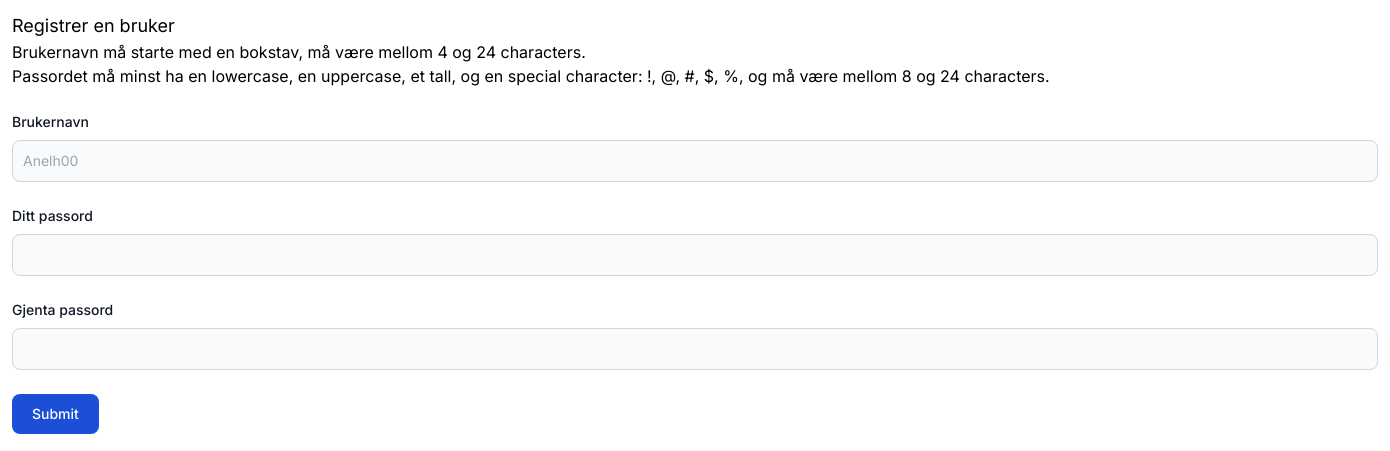
Test case: Testing API › should recieve data to the post request
In the field with test id "brukernavn": (695, 161) [12,140,1378,182], type "Anelh2000"
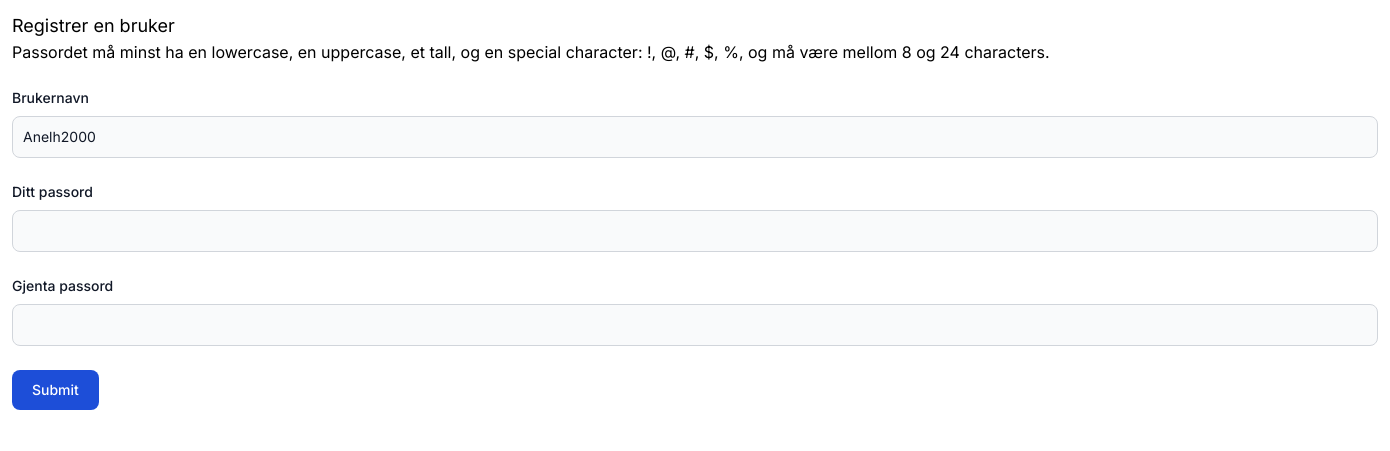
In the password field with test id "passord": (695, 231) [12,210,1378,252], type "Test123!"
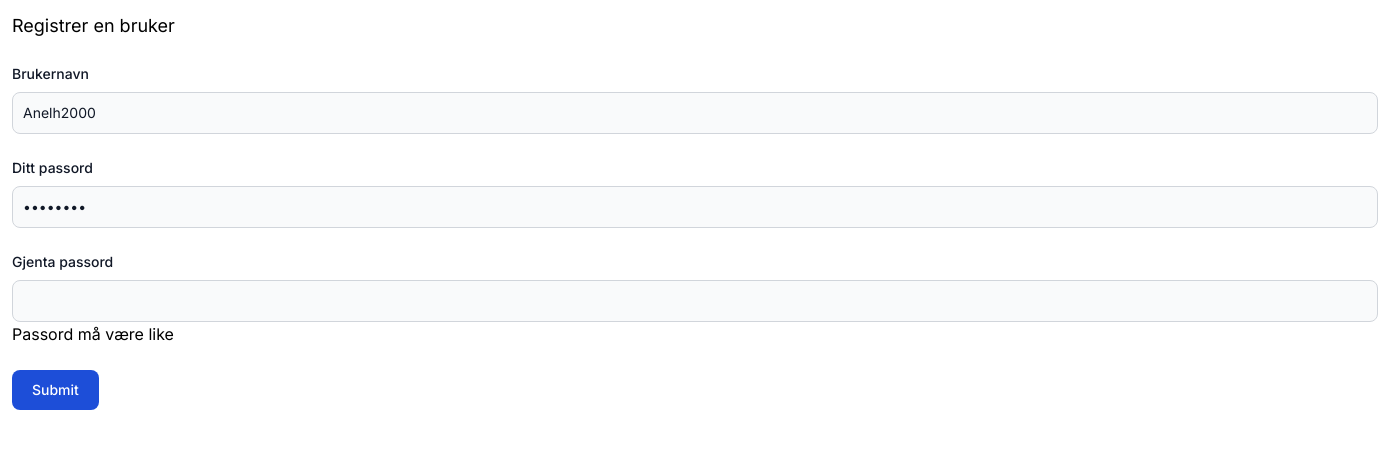
In the password field with test id "confirm_passord": (695, 301) [12,280,1378,322], type "Test123!"
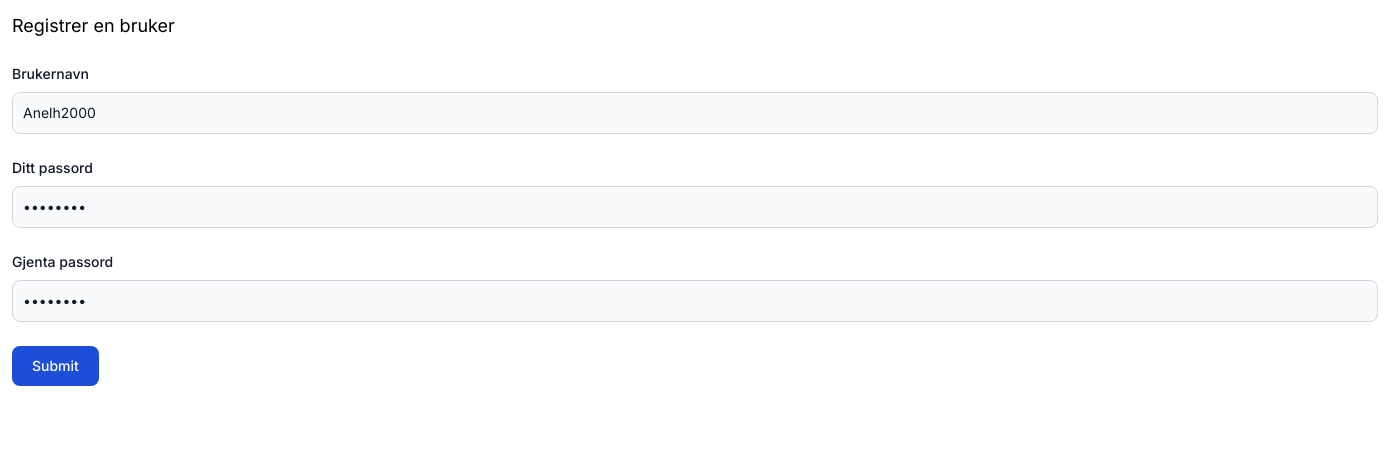
Click the button with test id "submit_button": click(55, 366) [12,346,99,386]
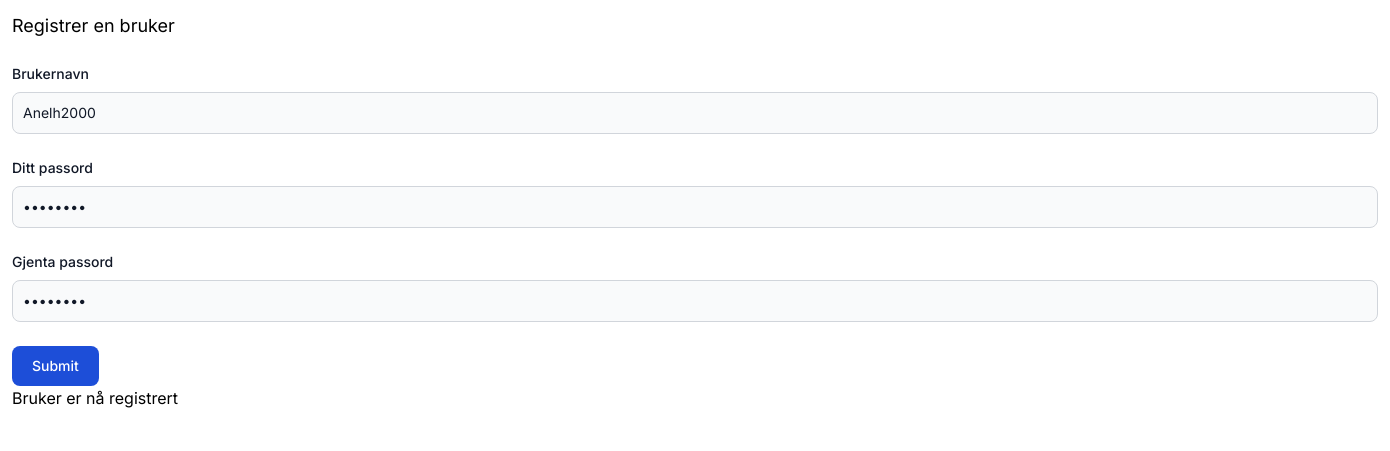
Expected: the text "Bruker er nå registrert" is shown, [12,388,178,408]
